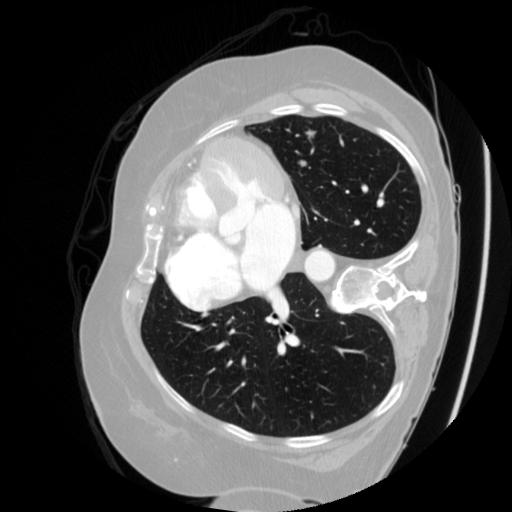nodule: (295, 157, 311, 173)
